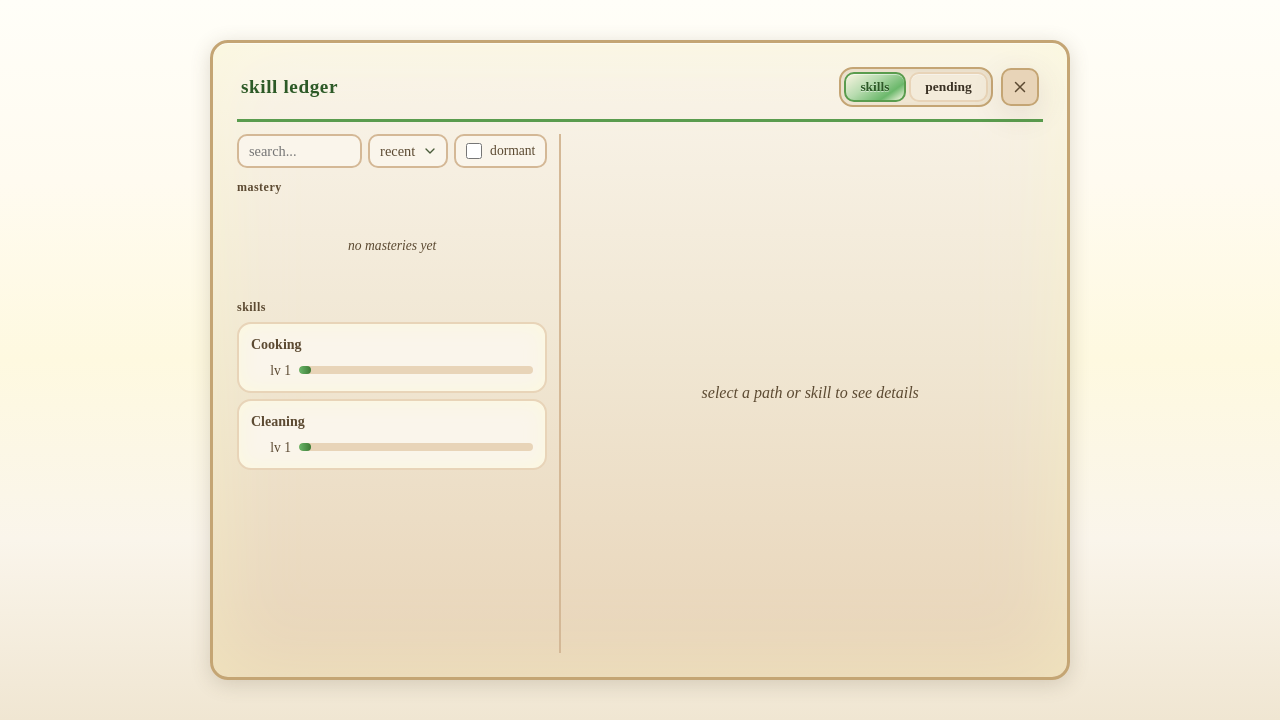
SkillLedger › should filter skills by search
Step 1. Type "Cook" into the field with placeholder "search..." → (300, 151), box [237,134,362,168]
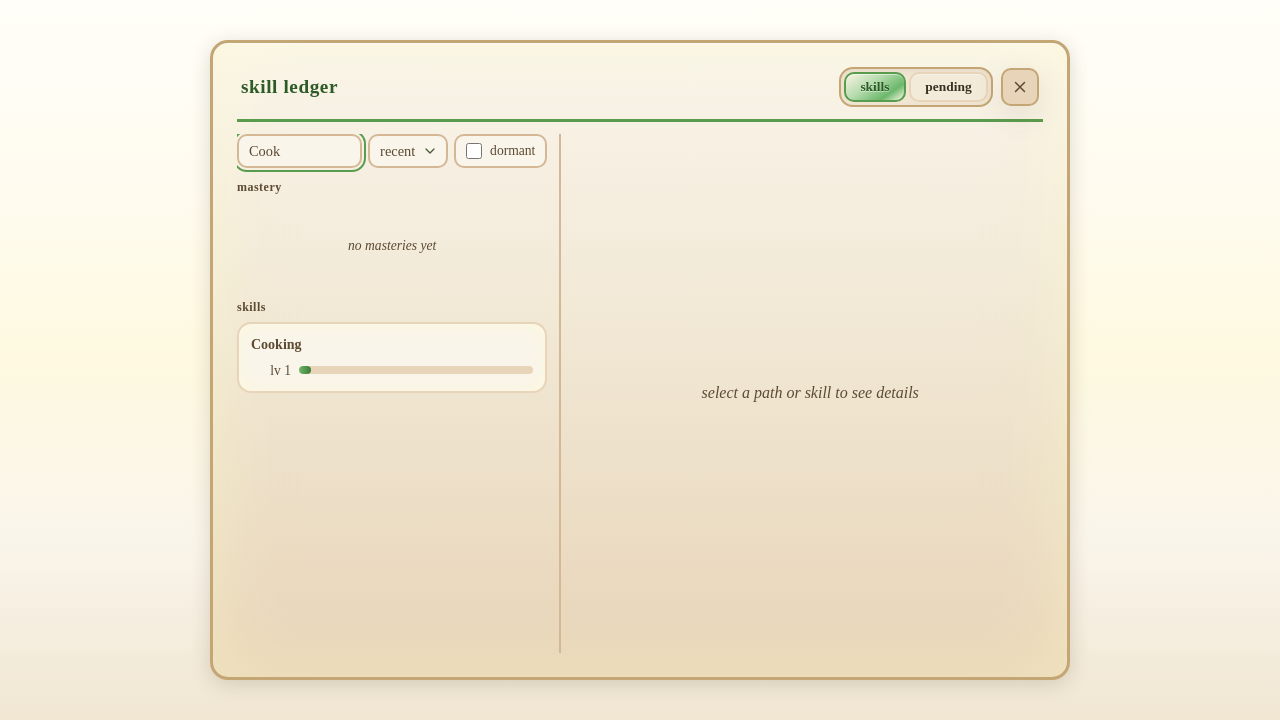
Check: the text "Cooking" is shown, box [251,337,302,352]
Check: the text "Cleaning" is gone
